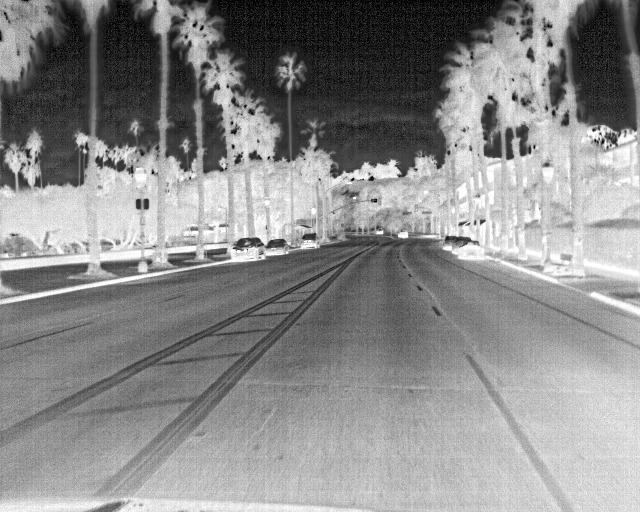car: (230, 237, 265, 263), (458, 239, 487, 259), (265, 238, 292, 256), (452, 237, 470, 256), (301, 234, 320, 251), (442, 235, 460, 250), (396, 227, 410, 239), (373, 225, 385, 237)
